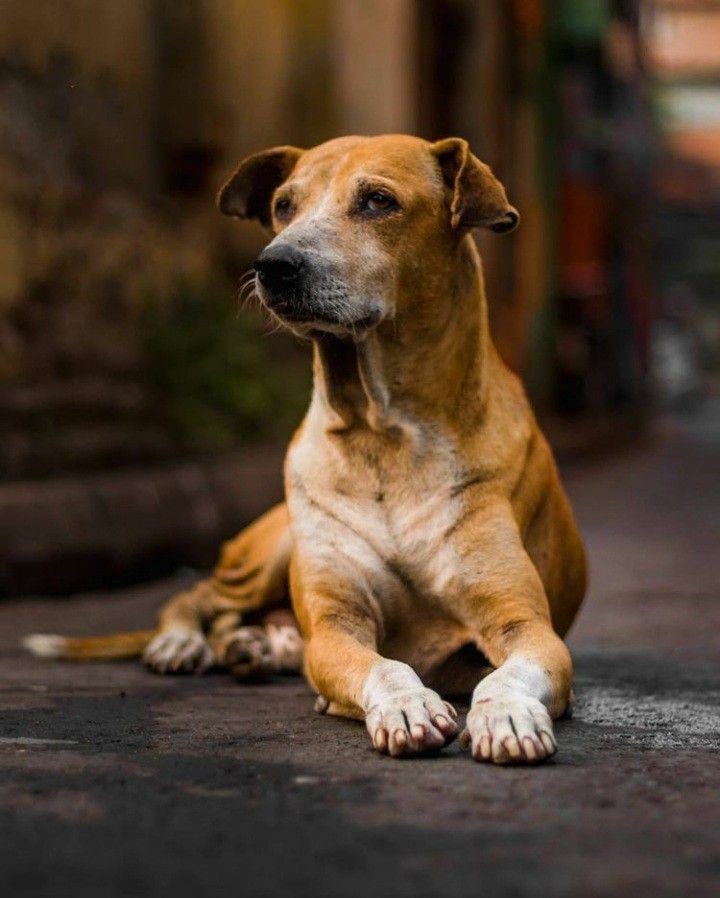Dog: (79, 95, 623, 768)
